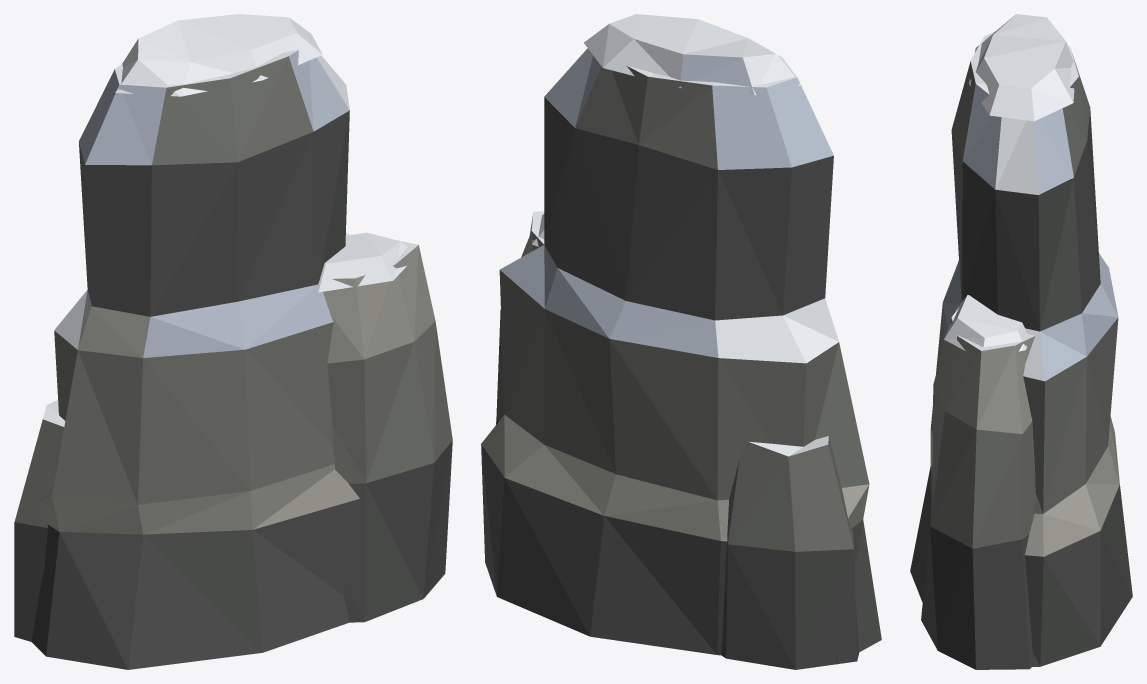
File: rock_cliff_01.glb
3 renders of one model, left to right at view 1: azimuth 30°, elevation 25°; view 2: azimuth 150°, elevation 25°; view 3: azimuth 270°, elevation 25°, orthographic. The views are drawn at different scales.
Visible parts, largest first — view 1: rock_cliff_01; view 2: rock_cliff_01; view 3: rock_cliff_01.
Boxes of the visible parts, x1,y1,x2,y2 form: rock_cliff_01: [14, 14, 452, 669]; rock_cliff_01: [481, 14, 881, 669]; rock_cliff_01: [910, 14, 1132, 669].
Size of what is drawn, in the model's own units: 5.87 by 8.15 by 3.1.
2 materials, 2 textured.
